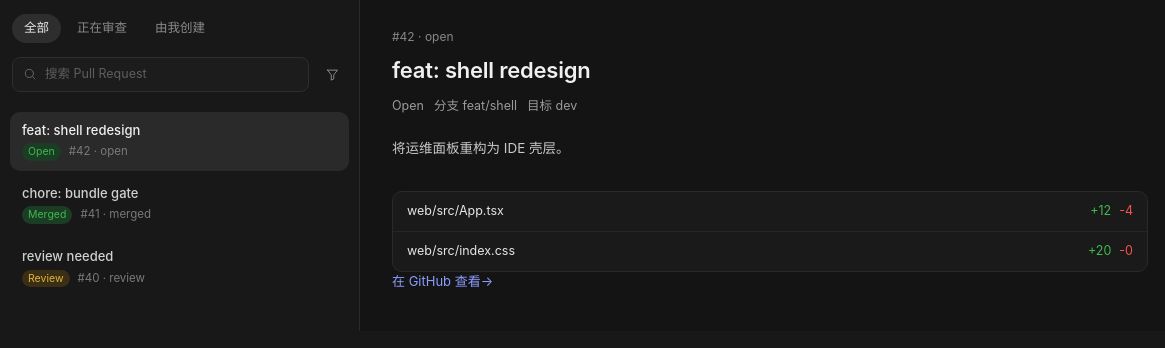
Scenario: PrView › 点击列表切换详情
Check: the text "将运维面板重构为 IDE 壳层。" is shown, box [392,140,570,156]
Click the text "chore: bundle gate" at (80, 194), box [22,185,138,202]
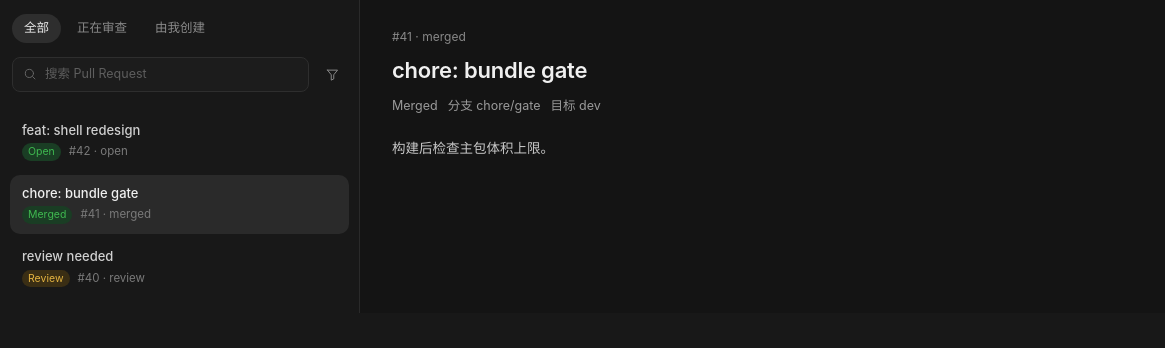
Check: the text "构建后检查主包体积上限。" is shown, box [392,140,554,156]
